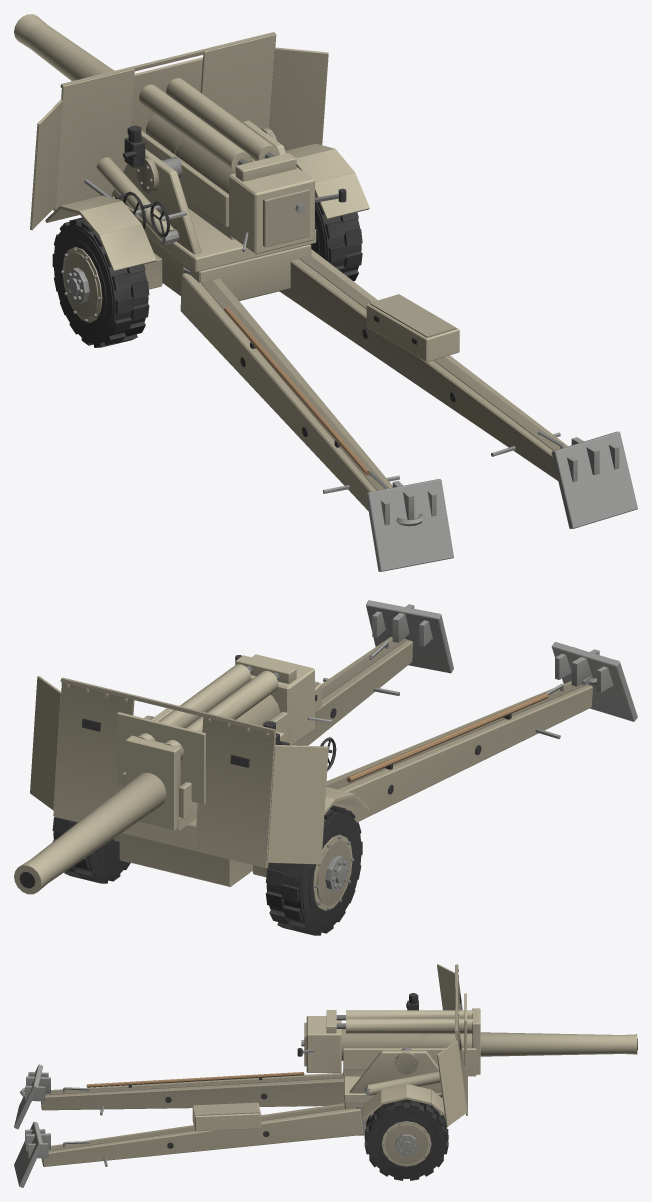
Rendered from usa_tow_m114.glb.
The picture shows the model from 3 angles, top to bottom: view 1: azimuth 30°, elevation 25°; view 2: azimuth 150°, elevation 25°; view 3: azimuth 270°, elevation 25°; orthographic projection. The views are drawn at different scales.
Visible parts, largest first — view 1: body, turret, barrel, wheel_0, wheel_1; view 2: turret, body, barrel, wheel_0, wheel_1; view 3: body, barrel, turret, wheel_1.
Boxes of the visible parts, x1=… form: body: x1=45, y1=143, x2=637, y2=571; turret: x1=30, y1=32, x2=328, y2=271; barrel: x1=14, y1=14, x2=346, y2=254; wheel_0: x1=52, y1=217, x2=149, y2=347; wheel_1: x1=310, y1=193, x2=362, y2=281; turret: x1=30, y1=676, x2=336, y2=868; body: x1=113, y1=600, x2=637, y2=886; barrel: x1=14, y1=654, x2=331, y2=894; wheel_0: x1=265, y1=805, x2=362, y2=935; wheel_1: x1=52, y1=817, x2=130, y2=883; body: x1=14, y1=1064, x2=447, y2=1187; barrel: x1=297, y1=993, x2=637, y2=1076; turret: x1=344, y1=964, x2=467, y2=1126; wheel_1: x1=364, y1=1099, x2=448, y2=1180.
Size of the model in its own units: 2.6 by 2 by 7.51.
